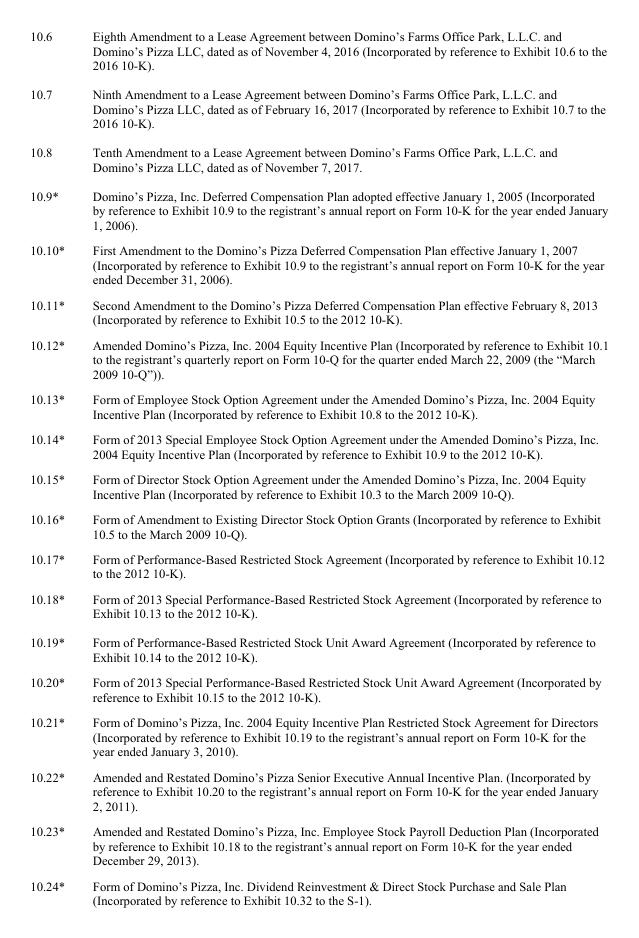table: (29, 28, 608, 906)
table column: (77, 28, 608, 906), (29, 28, 77, 906)
table row: (29, 79, 608, 137), (29, 181, 608, 237), (29, 331, 608, 386), (29, 763, 608, 818), (29, 237, 608, 291), (29, 709, 608, 763), (29, 818, 608, 872), (29, 28, 608, 79), (29, 137, 608, 181), (29, 585, 608, 627), (29, 627, 608, 669), (29, 291, 608, 331), (29, 386, 608, 426), (29, 426, 608, 466), (29, 466, 608, 506), (29, 545, 608, 585), (29, 669, 608, 709), (29, 506, 608, 545), (29, 872, 608, 906)
